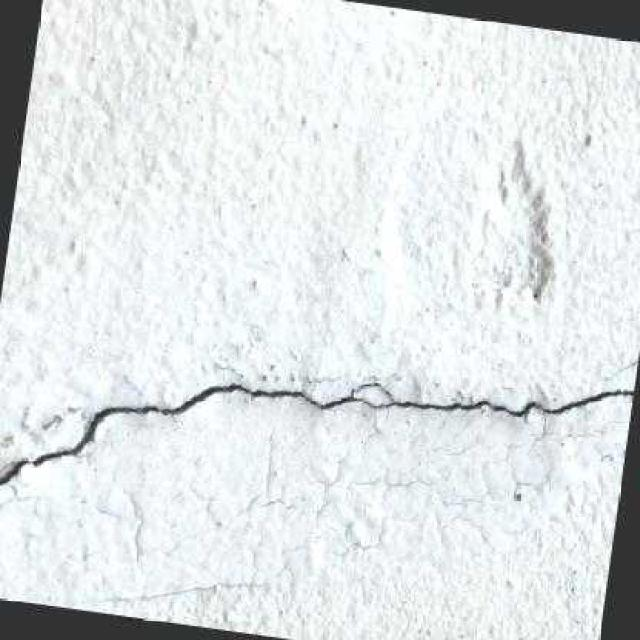D00: (0, 380, 633, 487)
